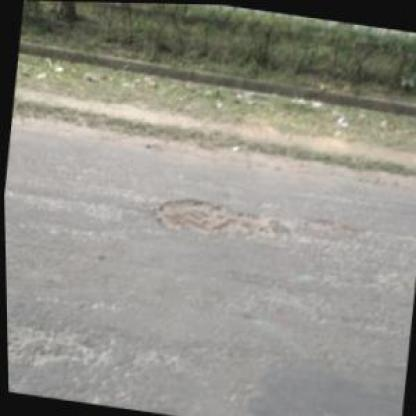pothole: (150, 192, 283, 249)
